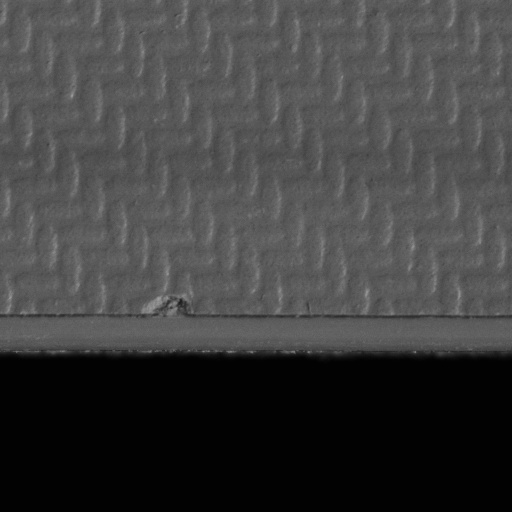bengque: (139, 293, 199, 319)
